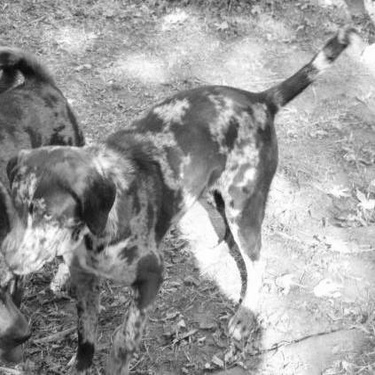dog: (3, 20, 369, 369), (4, 40, 80, 352)
